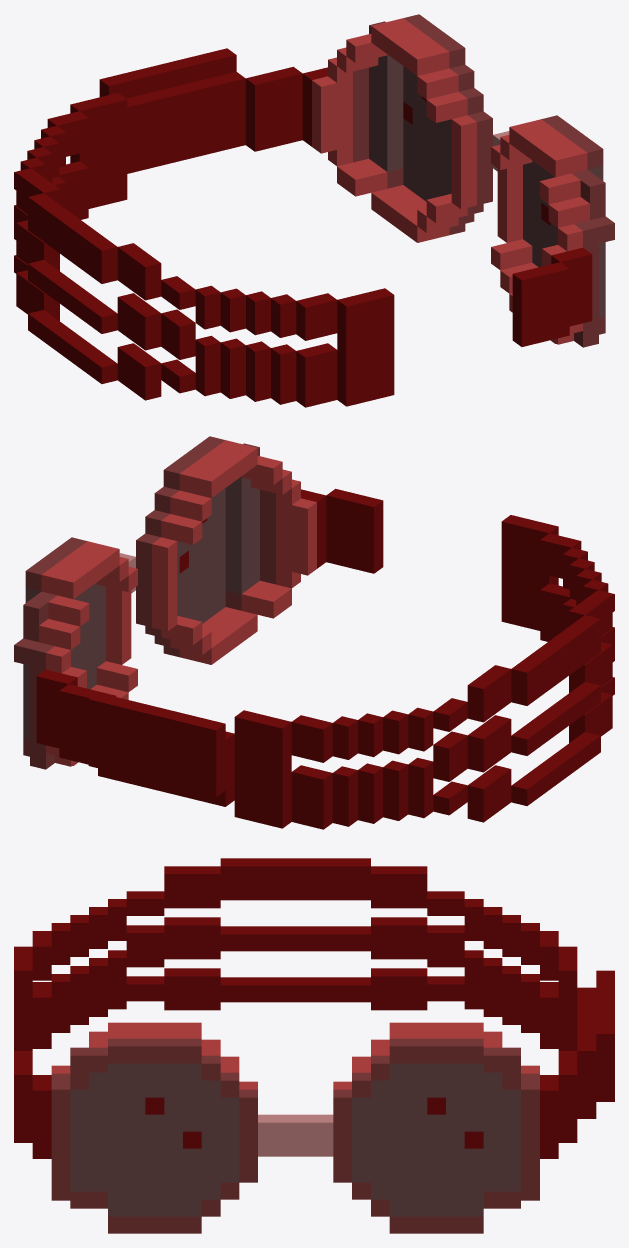
3 renders of one model, top to bottom at view 1: azimuth 30°, elevation 25°; view 2: azimuth 150°, elevation 25°; view 3: azimuth 270°, elevation 25°, orthographic. The views are drawn at different scales.
Bounding box in the file's own units: 1.45 × 0.55 × 1.6.
